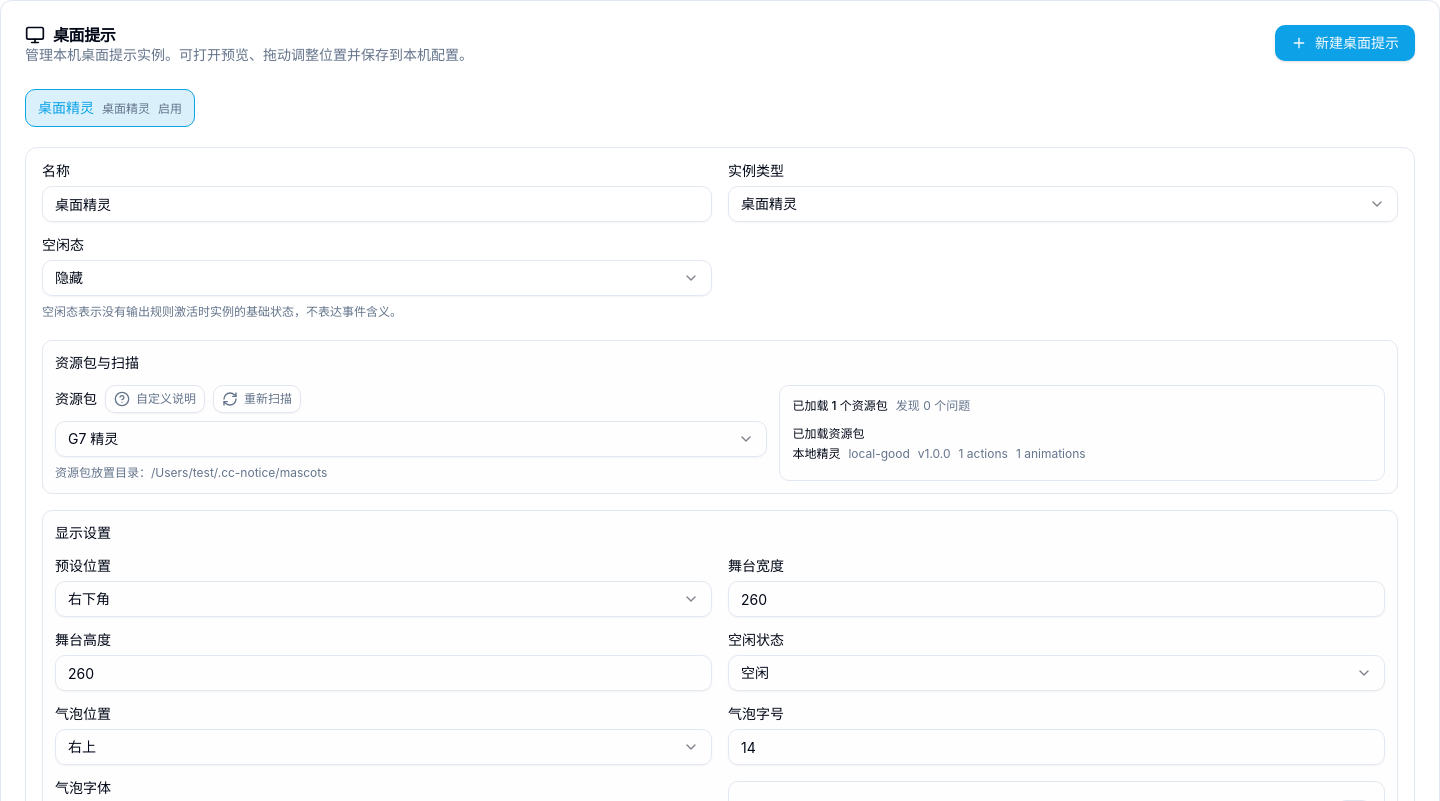
Test: DesktopNoticeInstanceLibrary › keeps loaded custom mascot packs visible when rescan fails
Check: the text "本地精灵" is shown, box [792,446,840,462]
Click the button "重新扫描" at (257, 399), box [213,385,301,413]
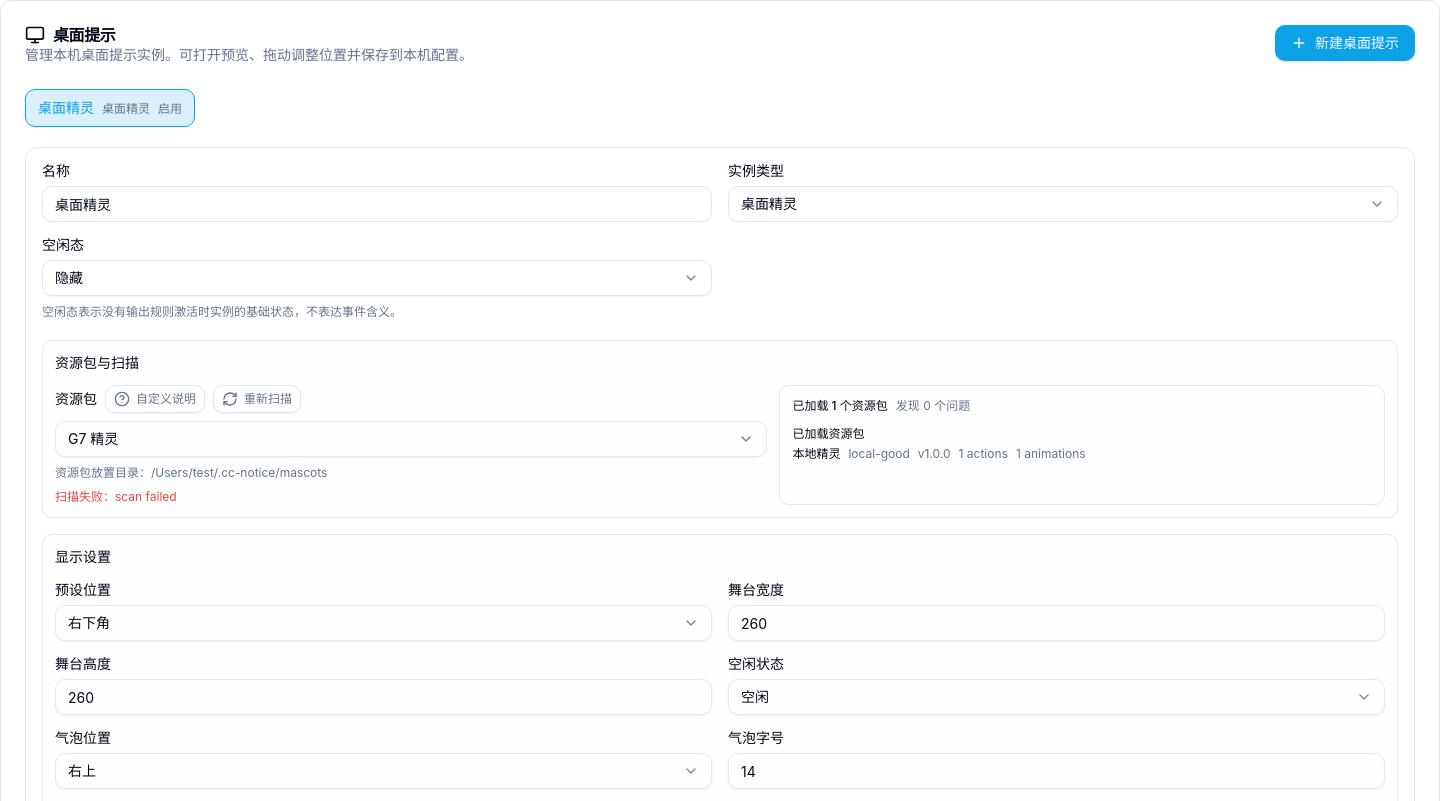
Check: the text "本地精灵" is shown, box [792,446,840,462]
Check: the text "扫描失败：scan failed" is shown, box [55,489,177,504]
